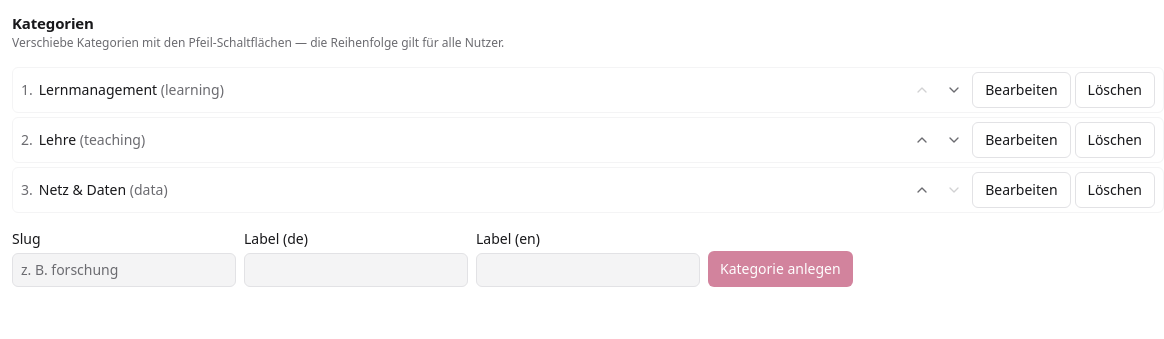
CategoriesAdmin — edit, delete and reorder (issue #130) › surfaces a server-side rejection (e.g. a duplicate slug) as an alert, keeping the form open
Click the button "Bearbeiten" in the row of "Lernmanagement" at (1021, 90), box [972,72,1071,108]
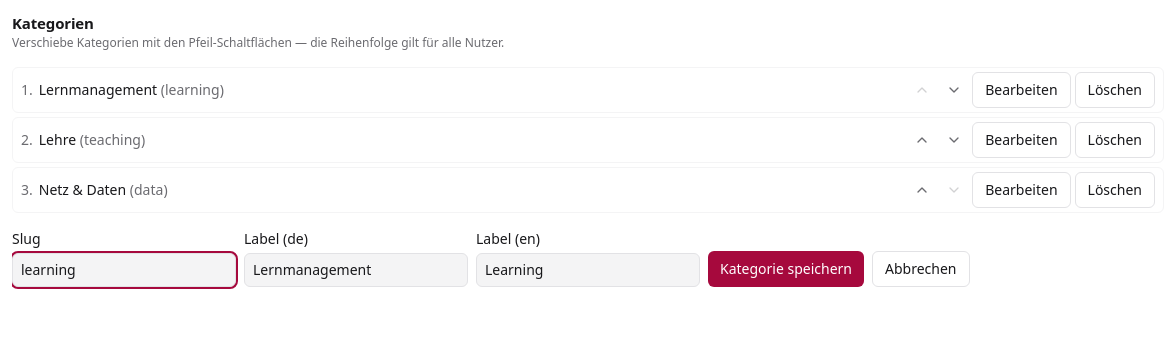
Replace the text in the field labelled "Slug" with "teaching" at (124, 270), box [12,252,236,286]
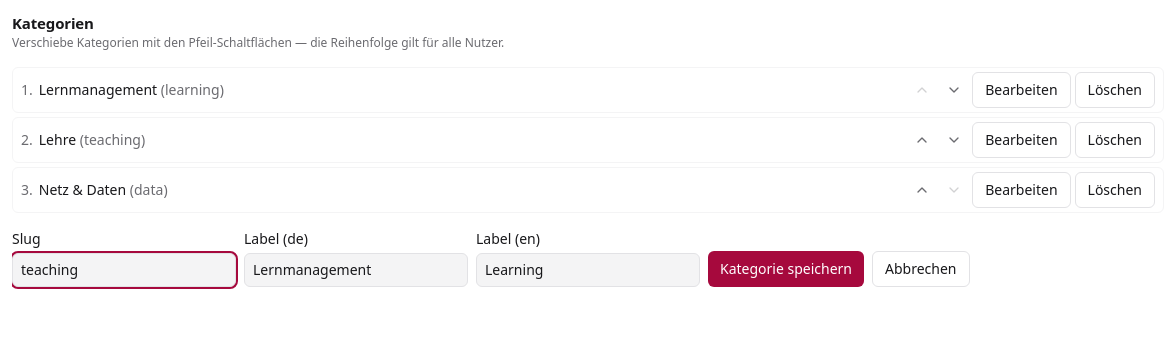
Click the button "Kategorie speichern" at (786, 268), box [708,250,864,286]
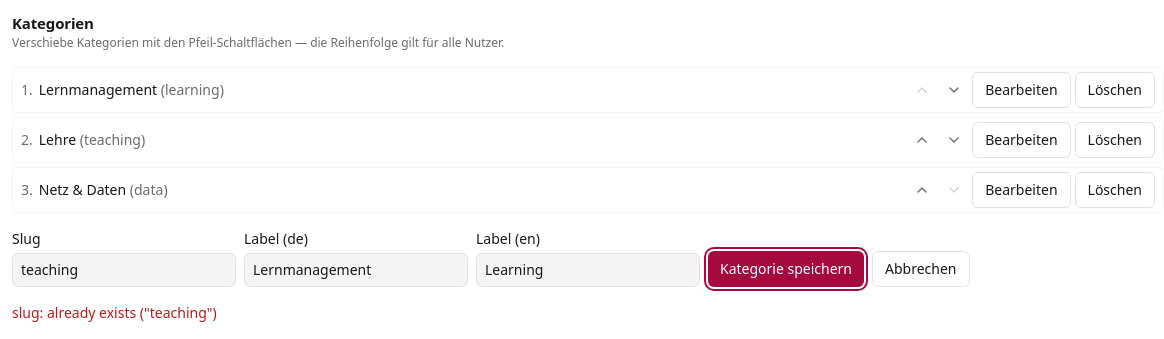
Now the message shows "already exists", box [12,302,217,322]
